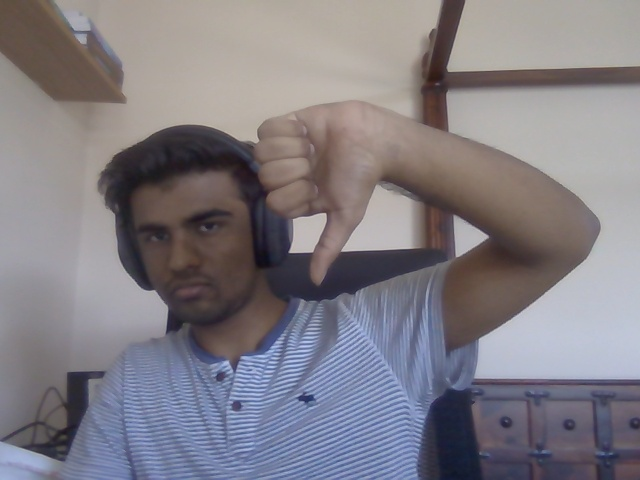No: (256, 100, 383, 292)
